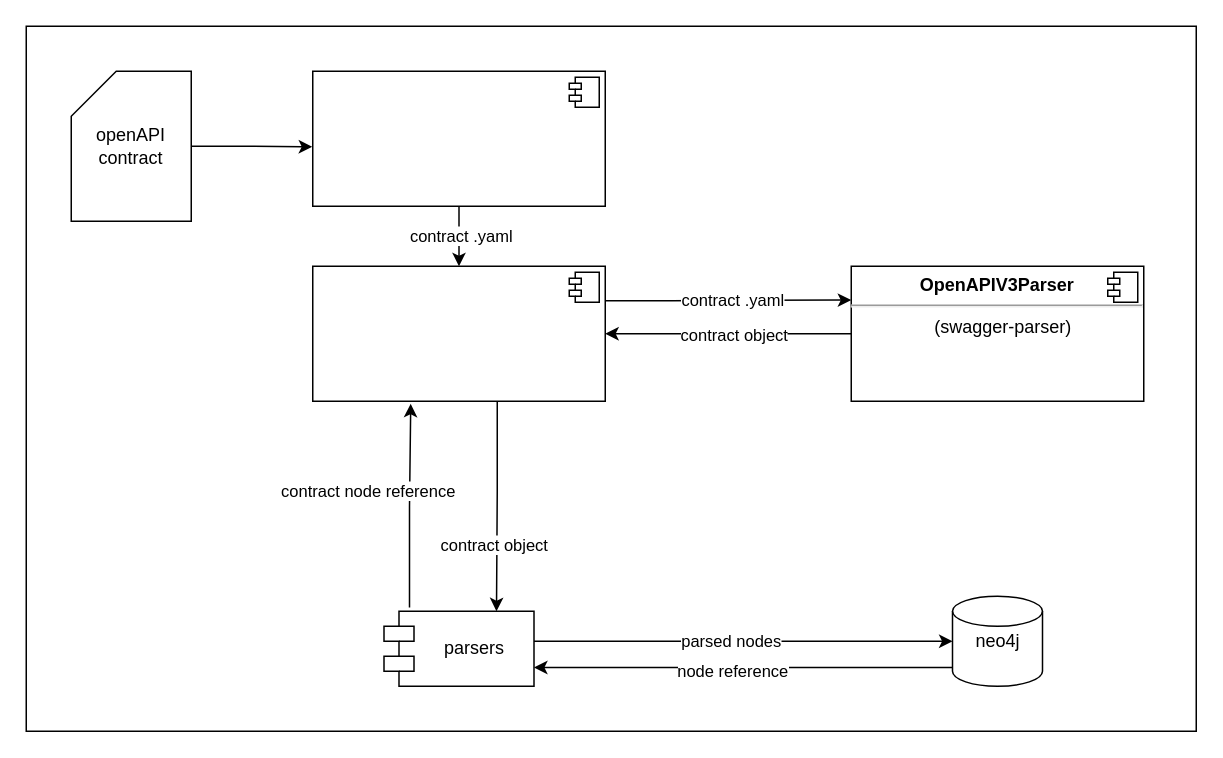
Some shapes in this 1223 by 758 pixel diagram are drawn without their labels. The centre of each missing label's shape, as x and y in pixels:
"AbstractScannerPlugin" goes at point (458, 138).
"OpenAPIScannerPlugin" goes at point (458, 333).
